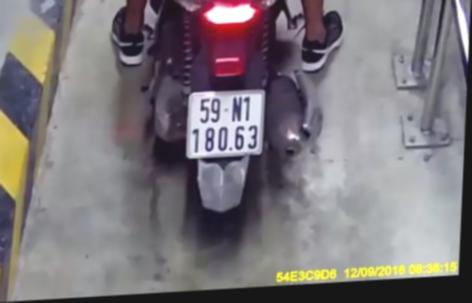License_Plate: (180, 84, 274, 164)
